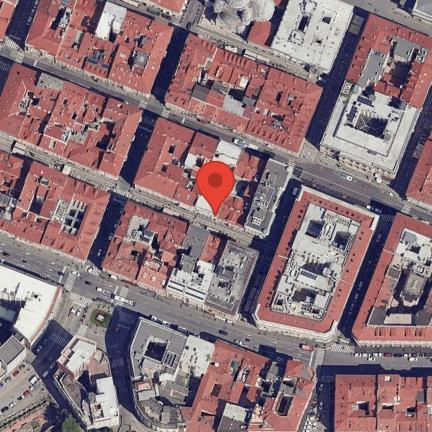area_open: (50, 258, 142, 357)
built: (26, 0, 324, 154), (130, 319, 318, 432), (102, 200, 262, 324), (257, 186, 382, 338), (134, 117, 292, 236), (322, 14, 432, 180), (0, 62, 141, 180), (0, 149, 113, 263), (351, 213, 432, 347), (1, 263, 61, 379), (54, 338, 119, 428), (272, 0, 353, 72), (334, 375, 432, 432), (199, 0, 290, 49), (408, 130, 432, 211), (0, 0, 23, 38), (144, 0, 189, 17)
